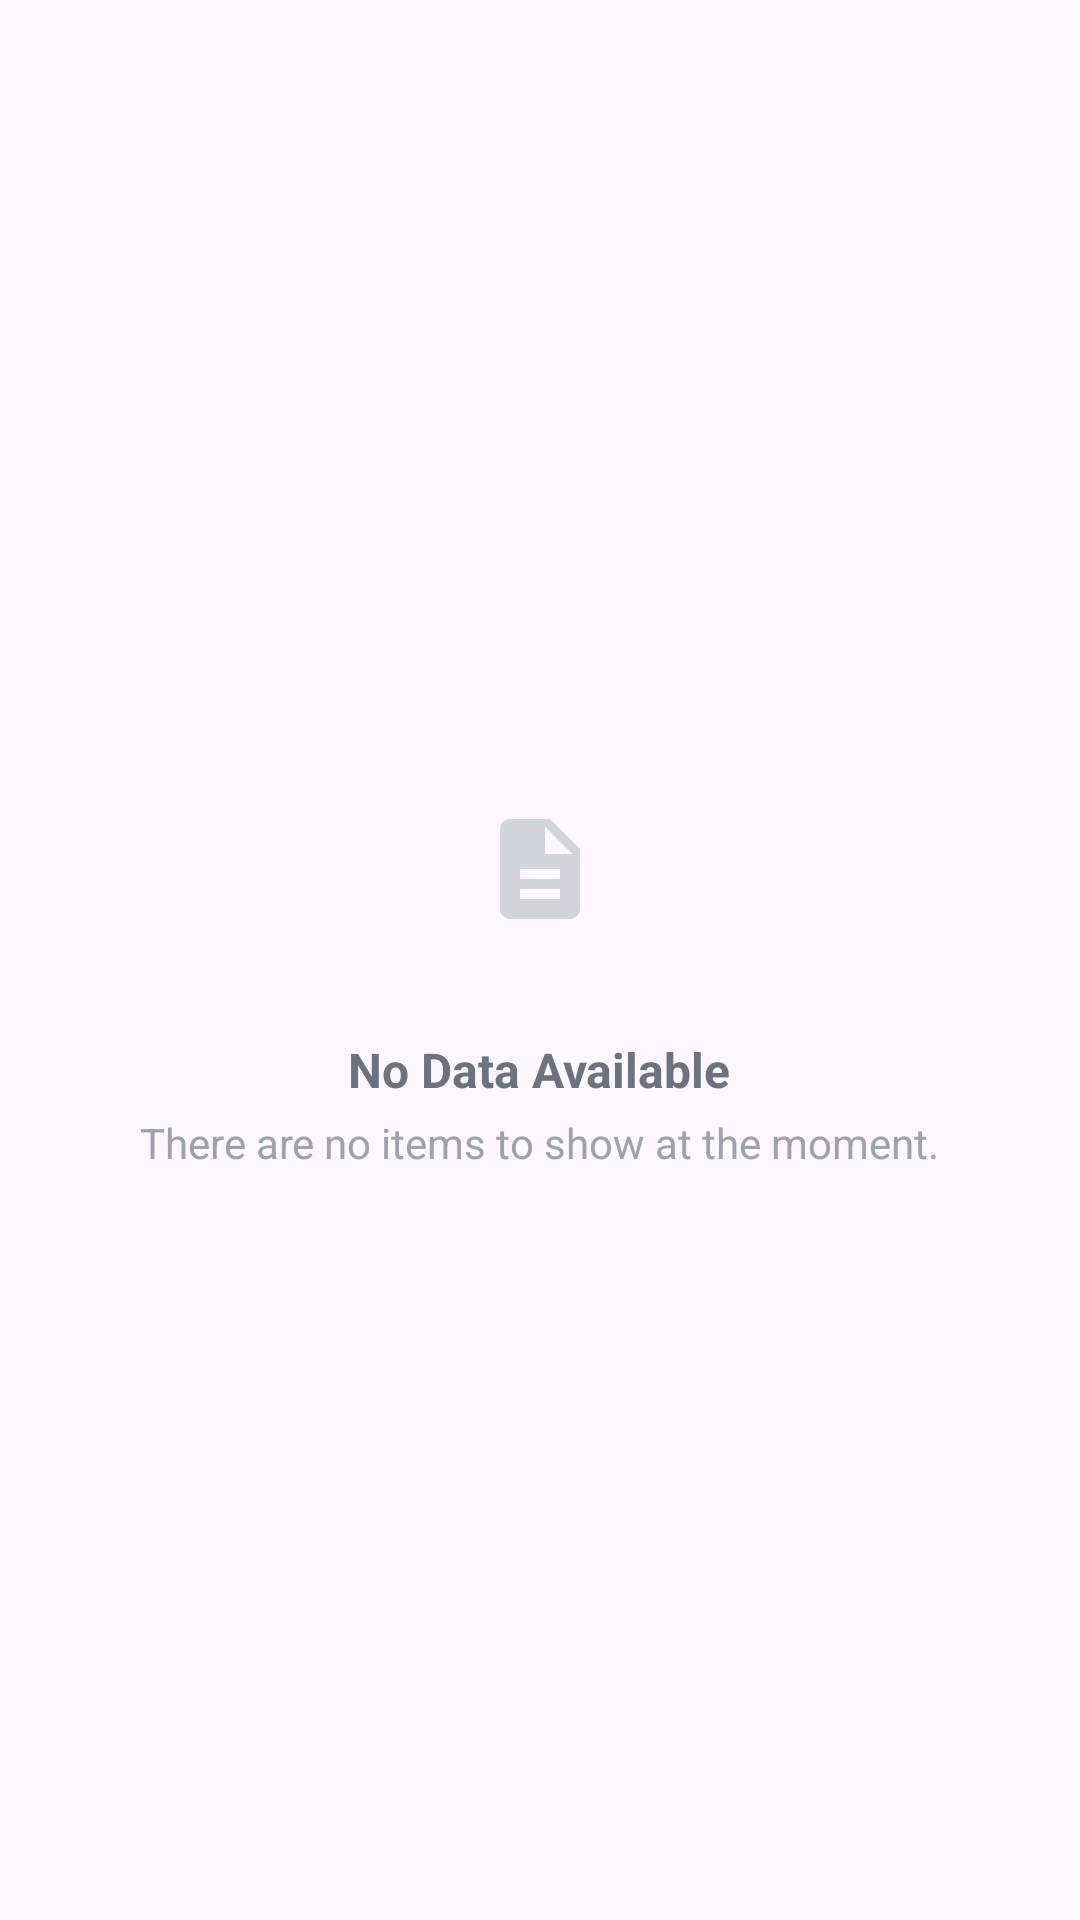

Point at icon controls on the screen. Image size 1080px×1920px, points as (x,y).
description: (540,869)
